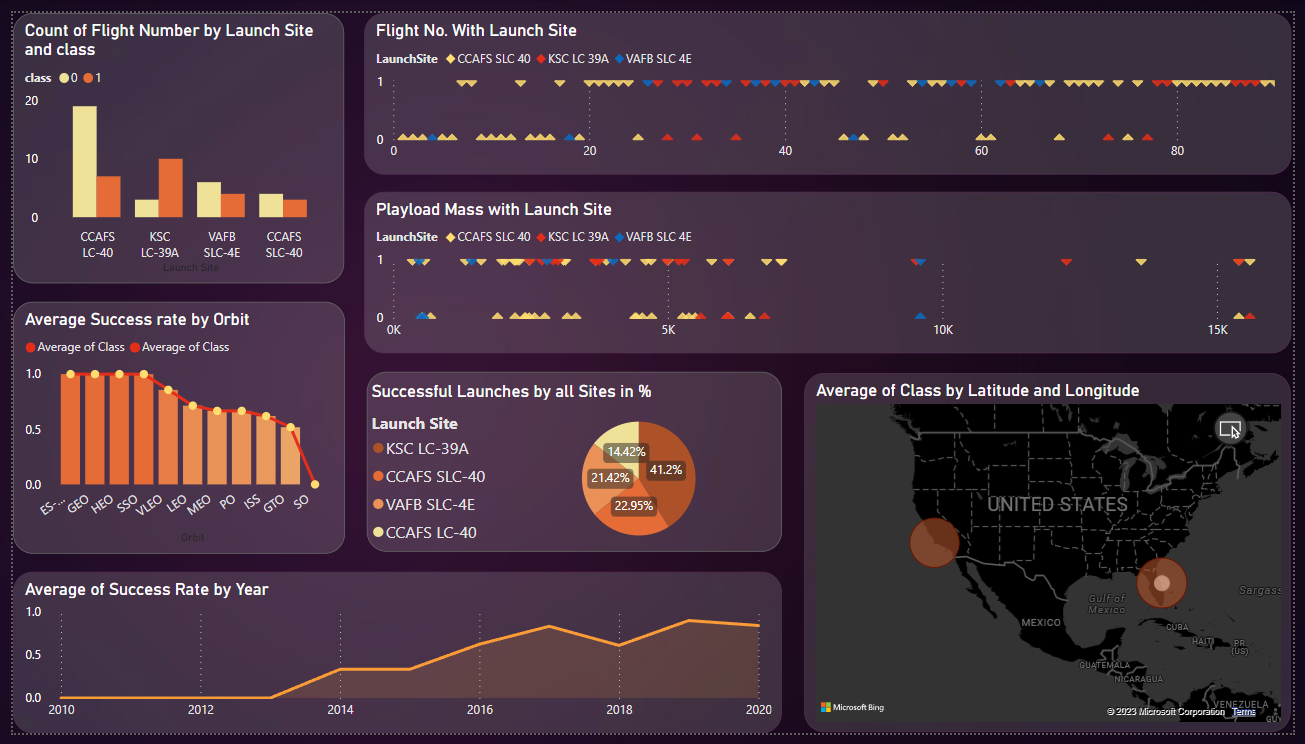

This screenshot's page, from the dashboard's own definition file:
{"tool":"powerbi","page":{"name":"Page 2","canvas":[1280,720],"ordinal":1},"visuals":[{"type":"scatterChart","title":"Flight No. With Launch Site","fields":{"X":["dataset_part_2.FlightNumber"],"Series":["dataset_part_2.LaunchSite"],"Y":["dataset_part_2.Class"]},"box":[351.2,0,927.5,161.2],"z":0},{"type":"lineClusteredColumnComboChart","title":"Average Success rate by Orbit","fields":{"Category":["dataset_part_2.Orbit"],"Y":["Avg(dataset_part_2.Class)"],"Y2":["Avg(dataset_part_2.Class)"]},"box":[0,288.3,331.7,251.7],"z":1000},{"type":"scatterChart","title":"Playload Mass with Launch Site","fields":{"Y":["dataset_part_2.Class"],"X":["dataset_part_2.PayloadMass"],"Series":["dataset_part_2.LaunchSite"]},"box":[351.2,178.8,927.5,161.2],"z":2000},{"type":"areaChart","title":"Average of Success Rate by Year","fields":{"Category":["dataset_part_2.Date.Variation.Date Hierarchy.Year"],"Y":["Avg(dataset_part_2.Class)"]},"box":[0,558.6,768.9,161.4],"z":3000},{"type":"pieChart","title":"Successful Launches by all Sites in %","fields":{"Category":["spacex_launch_dash.Launch Site"],"Y":["Avg(spacex_launch_dash.class)"]},"box":[353.8,358.8,415,180],"z":4000},{"type":"clusteredColumnChart","fields":{"Category":["spacex_launch_dash.Launch Site"],"Y":["Count(spacex_launch_dash.Flight Number)"],"Series":["spacex_launch_dash.class"]},"box":[0,0,331.2,270],"z":5000},{"type":"map","fields":{"X":["dataset_part_2.Longitude"],"Y":["dataset_part_2.Latitude"],"Size":["Avg(dataset_part_2.Class)"]},"box":[790.9,360.6,486.5,359.4],"z":6000}]}

Visuals, with their boxes in screenshot pixels (x1, y1, x2, y2), scaled from the page's 1280x720 canvas onto the 1305x744 screenshot:
"Flight No. With Launch Site" scatterChart: 358,0,1304,167
"Average Success rate by Orbit" lineClusteredColumnComboChart: 0,298,338,558
"Playload Mass with Launch Site" scatterChart: 358,185,1304,351
"Average of Success Rate by Year" areaChart: 0,577,784,743
"Successful Launches by all Sites in %" pieChart: 361,371,784,557
clusteredColumnChart - spacex_launch_dash.Launch Site x Count(spacex_launch_dash.Flight Number): 0,0,338,279
map - dataset_part_2.Longitude x dataset_part_2.Latitude: 806,373,1302,743
